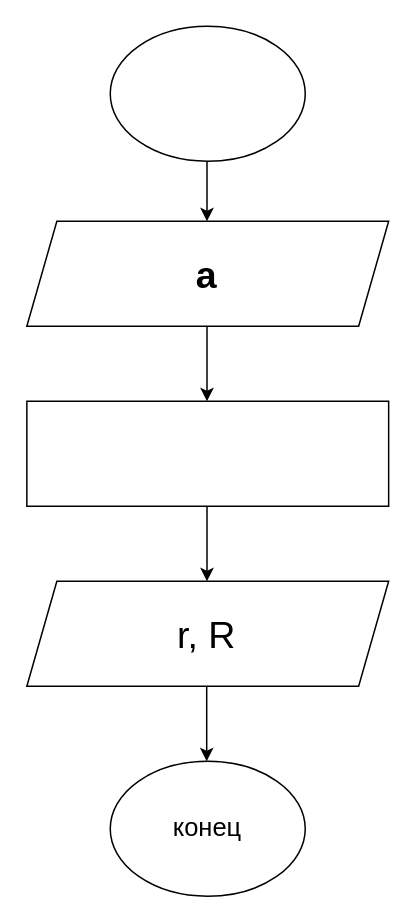
Image size: 416x923. Some labels were removed from this diagram. The shapes that lost their labels are listed below. From the top down, each one's centre as x and y in pixels, then its label:
At (x=207, y=93): "начало".
At (x=207, y=453): "r = a / 2 R = (a*sqrt(2)) / 2".
